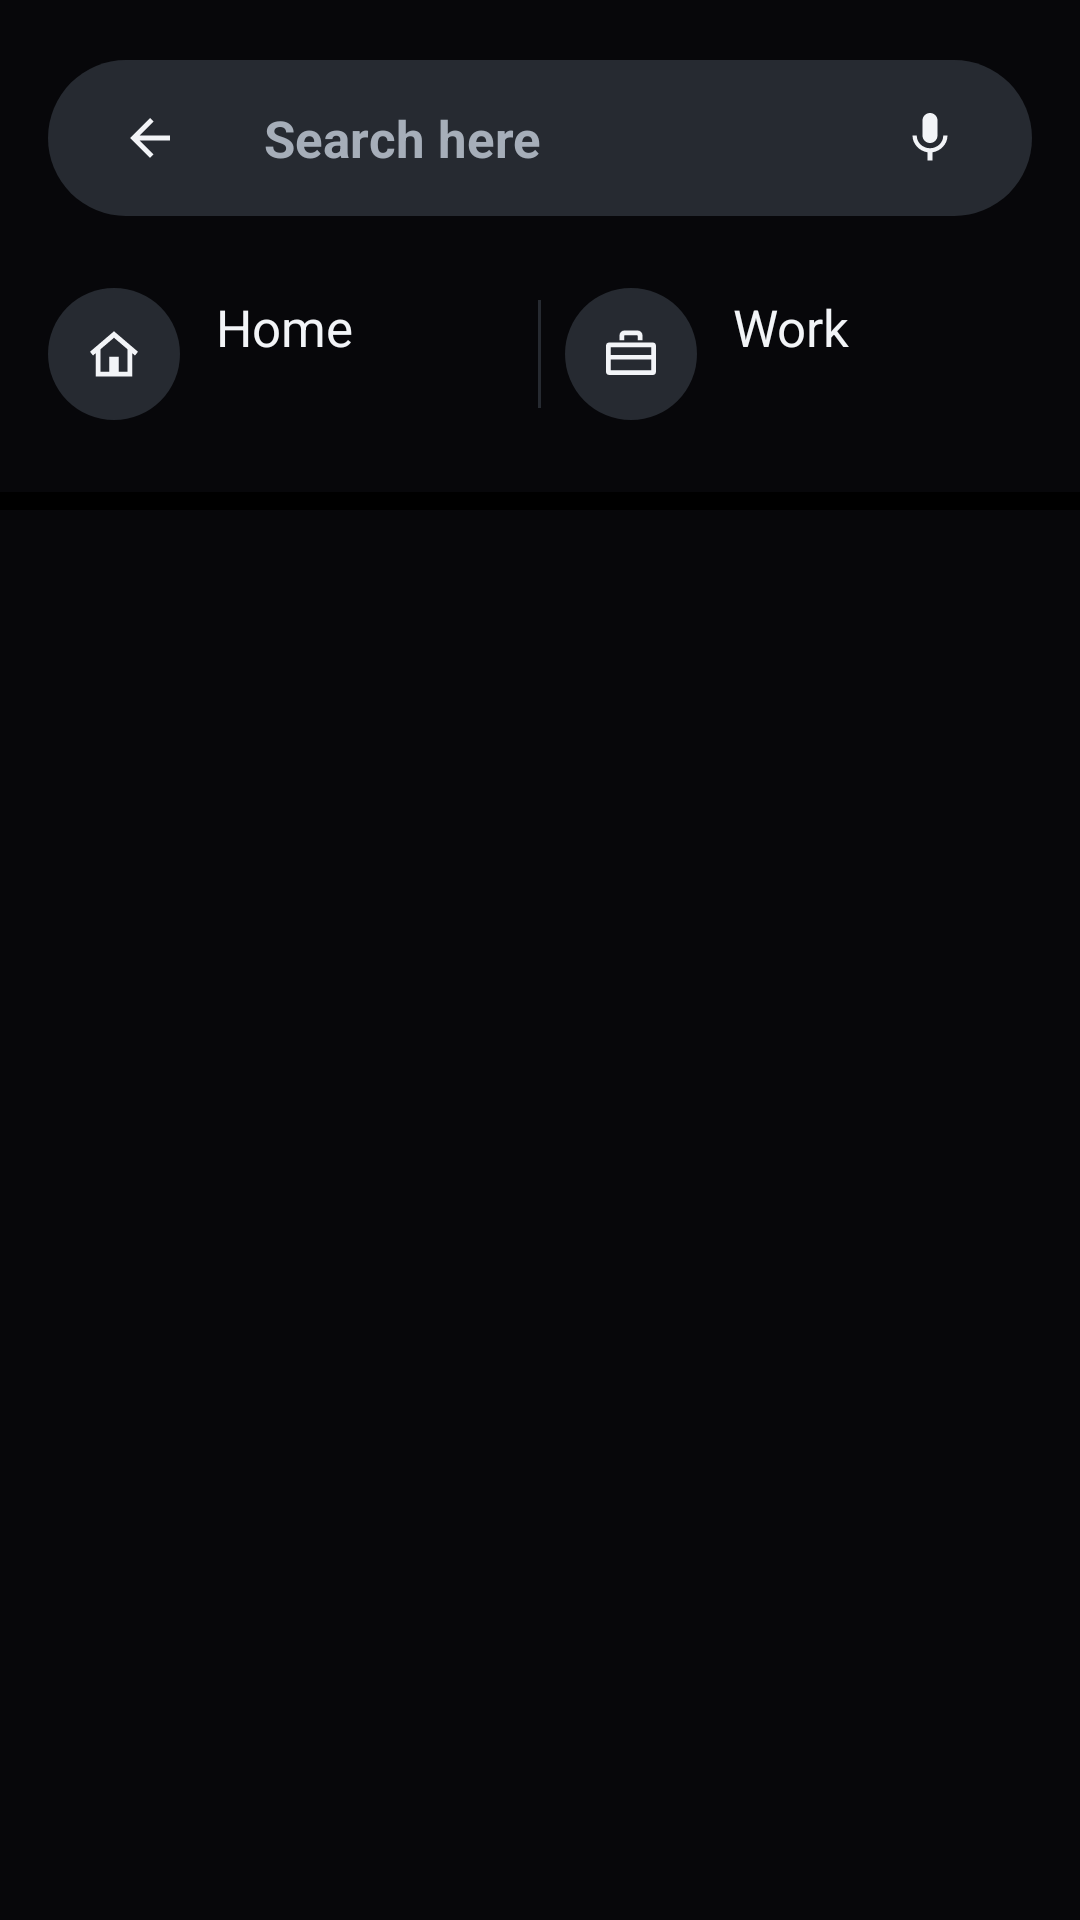

Where to tap for icons on this 1080px×1920px app screen, as point (x, y):
Back: point (150, 138)
Speak the address: point (930, 138)
